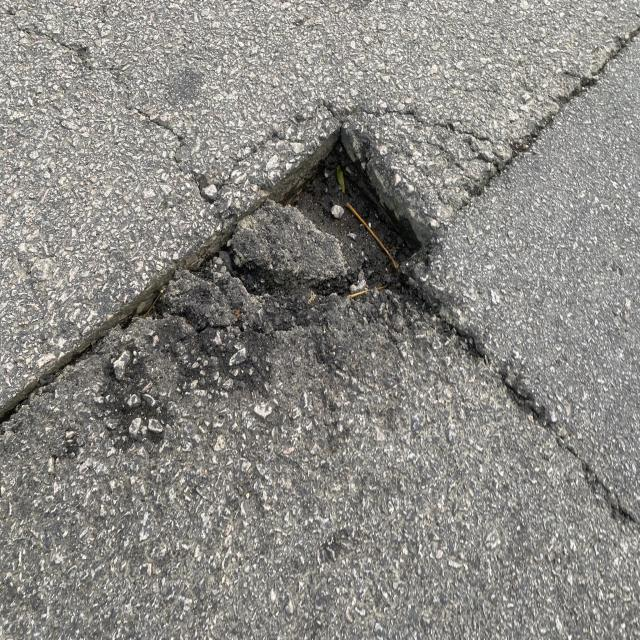Pothole: (23, 84, 493, 413)
